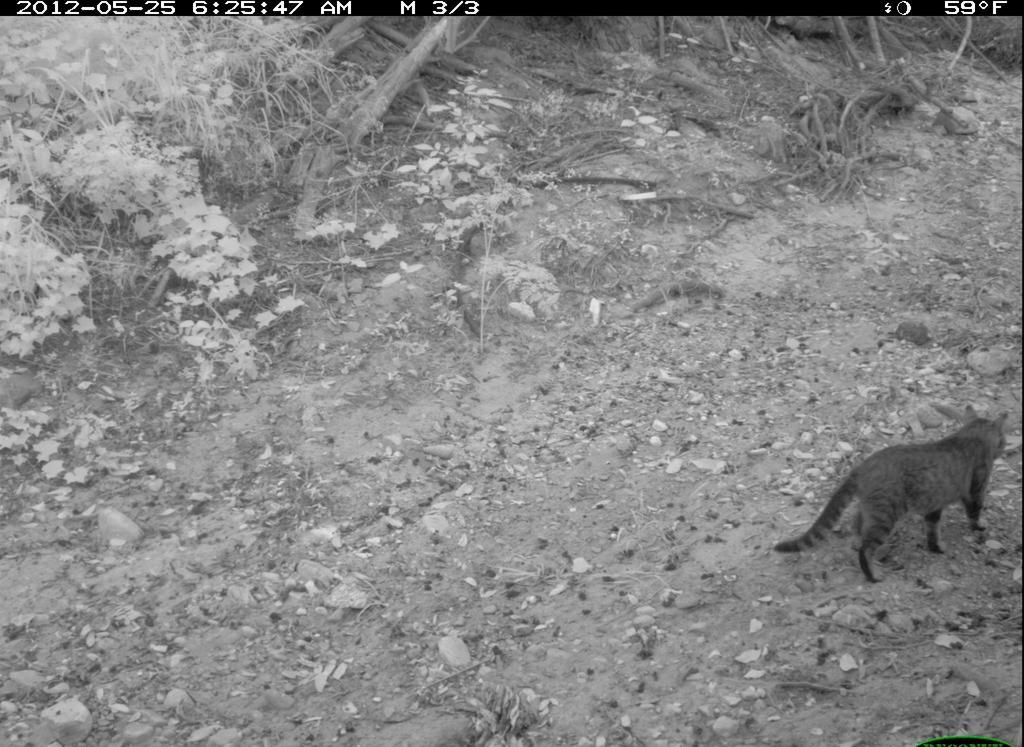cat: (763, 402, 1010, 588)
